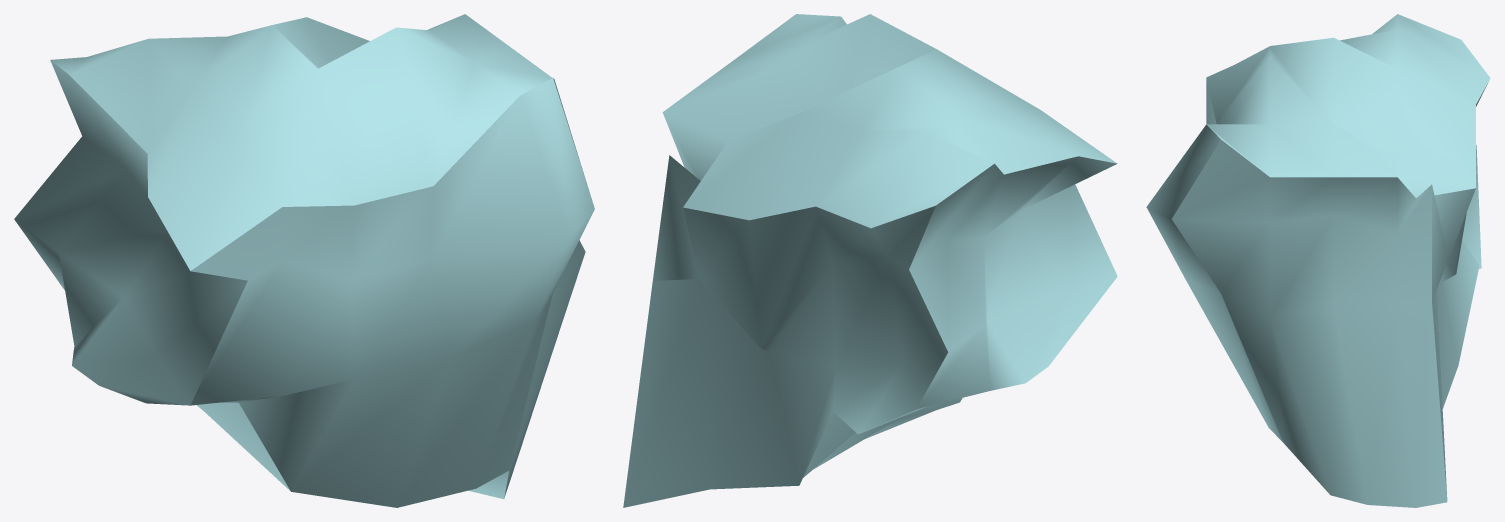
Rendered from Ice_03.fbx.
3 views of the same model, side by side, from view 1: azimuth 30°, elevation 25°; view 2: azimuth 150°, elevation 25°; view 3: azimuth 270°, elevation 25° (orthographic). The views are drawn at different scales.
Parts seen in each view (by area): view 1: Ice_04; view 2: Ice_04; view 3: Ice_04.
Part boxes in pixels (x1,y1,x2,y2): Ice_04: [14, 14, 594, 507]; Ice_04: [623, 14, 1117, 507]; Ice_04: [1146, 14, 1490, 507].
Bounding box in the file's own units: 620 × 720 × 582.
